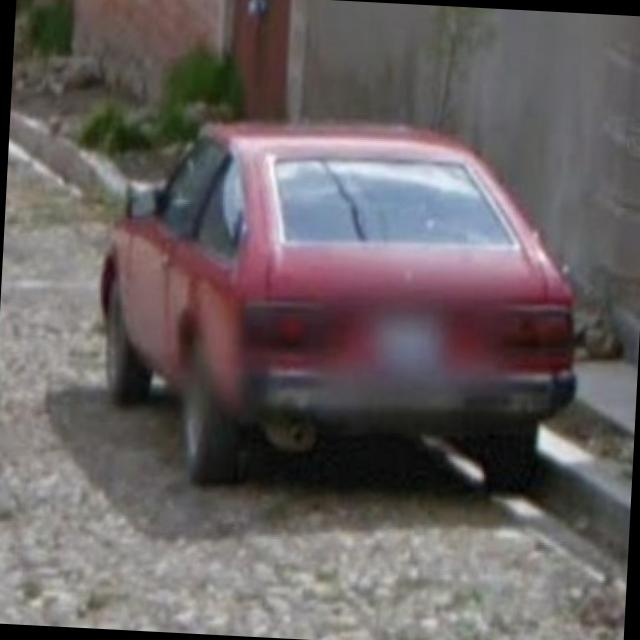car: (86, 112, 587, 506)
